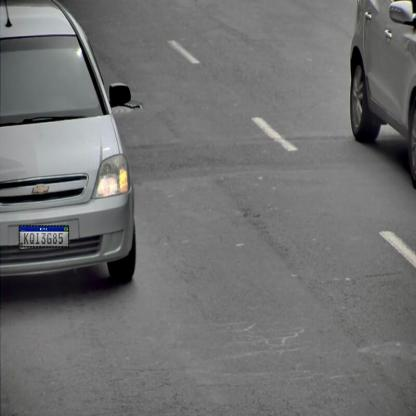PlacaM: (19, 226, 69, 248)
